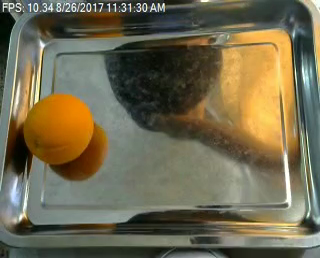Orange: (22, 93, 93, 166)
